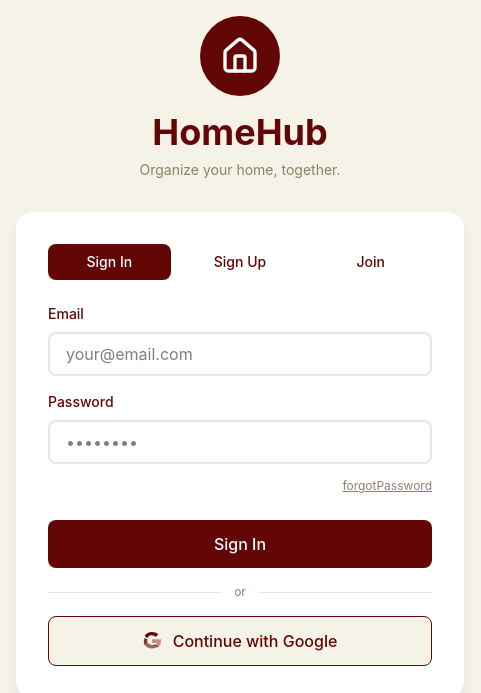
AuthScreen — English (en) › renders "Create Account" button when Sign Up tab is active
What coordinates should you click on to do the following:
click the button "Sign Up"
I would click on:
 (240, 262)
Its box is top-left (179, 244), bottom-right (301, 280).
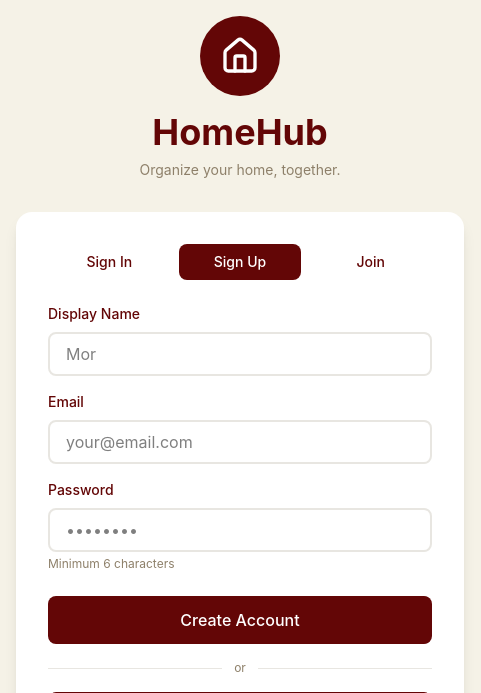
Expected: the button "Create Account" is shown, top-left (48, 596), bottom-right (432, 644)
